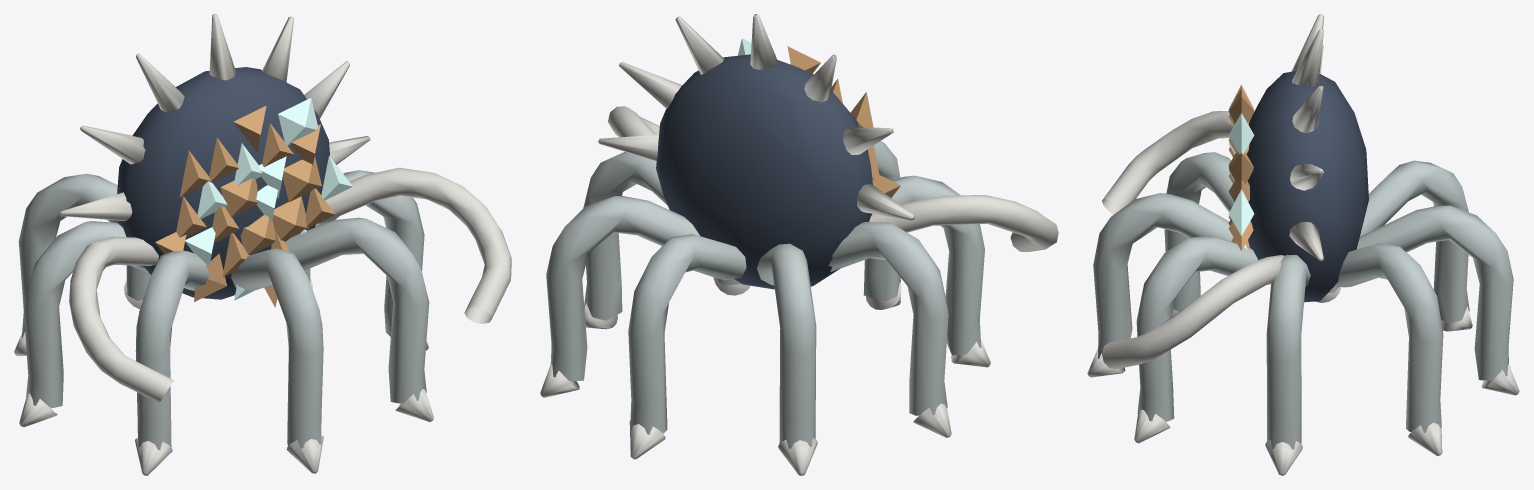
Rendered from bio_crown_stalker_08_far.glb.
3 views of the same model, side by side, from view 1: azimuth 30°, elevation 25°; view 2: azimuth 150°, elevation 25°; view 3: azimuth 270°, elevation 25° (orthographic). The views are drawn at different scales.
Visible parts, largest first — view 1: Faceted crown substrate, Compound lens facet.001, Crooked support.005, Crooked support.004, Scythe sensory limb.001, Crown radiating blade, Crooked support.002, Scythe sensory limb, Crooked support.003, Compound lens facet, Crooked support.001, Crooked support.006 (+5 smaller); view 2: Faceted crown substrate, Crooked support.007, Crooked support, Crooked support.002, Crooked support.001, Crown radiating blade, Crooked support.003, Crooked support.006, Scythe sensory limb, Crooked support.004, Compound lens facet.001, Scythe sensory limb.001 (+5 smaller); view 3: Faceted crown substrate, Crooked support, Crooked support.007, Crooked support.004, Crooked support.005, Crooked support.006, Crooked support.001, Scythe sensory limb.001, Scythe sensory limb, Crown radiating blade, Crooked support.003, Compound lens facet.001 (+6 smaller).
Part boxes in pixels (x1,y1,x2,y2): Faceted crown substrate: [117, 67, 329, 299]; Compound lens facet.001: [155, 105, 335, 307]; Crooked support.005: [285, 217, 429, 403]; Crooked support.004: [231, 248, 323, 448]; Scythe sensory limb.001: [318, 167, 511, 323]; Crown radiating blade: [60, 14, 370, 221]; Crooked support.002: [23, 221, 147, 407]; Scythe sensory limb: [69, 236, 173, 402]; Crooked support.003: [135, 250, 209, 449]; Compound lens facet: [185, 98, 352, 300]; Crooked support.001: [18, 173, 118, 337]; Crooked support.006: [315, 170, 424, 336]; Faceted crown substrate: [656, 54, 872, 289]; Crooked support.007: [546, 196, 699, 381]; Crooked support: [628, 234, 746, 434]; Crooked support.002: [828, 222, 948, 415]; Crooked support.001: [757, 243, 816, 448]; Crown radiating blade: [598, 14, 914, 220]; Crooked support.003: [891, 175, 984, 355]; Crooked support.006: [583, 152, 667, 320]; Scythe sensory limb: [869, 195, 1058, 251]; Crooked support.004: [863, 141, 900, 301]; Compound lens facet.001: [787, 46, 900, 197]; Scythe sensory limb.001: [608, 106, 659, 137]; Faceted crown substrate: [1246, 71, 1368, 302]; Crooked support: [1356, 205, 1513, 380]; Crooked support.007: [1334, 243, 1443, 432]; Crooked support.004: [1093, 193, 1233, 358]; Crooked support.005: [1136, 236, 1257, 421]; Crooked support.006: [1266, 254, 1310, 449]; Crooked support.001: [1360, 160, 1469, 323]; Scythe sensory limb.001: [1102, 255, 1284, 368]; Scythe sensory limb: [1102, 111, 1233, 214]; Crown radiating blade: [1289, 14, 1324, 261]; Crooked support.003: [1164, 152, 1233, 311]; Compound lens facet.001: [1228, 85, 1254, 250].
Bounding box in the file's own units: 2.59 × 2.16 × 2.37.
